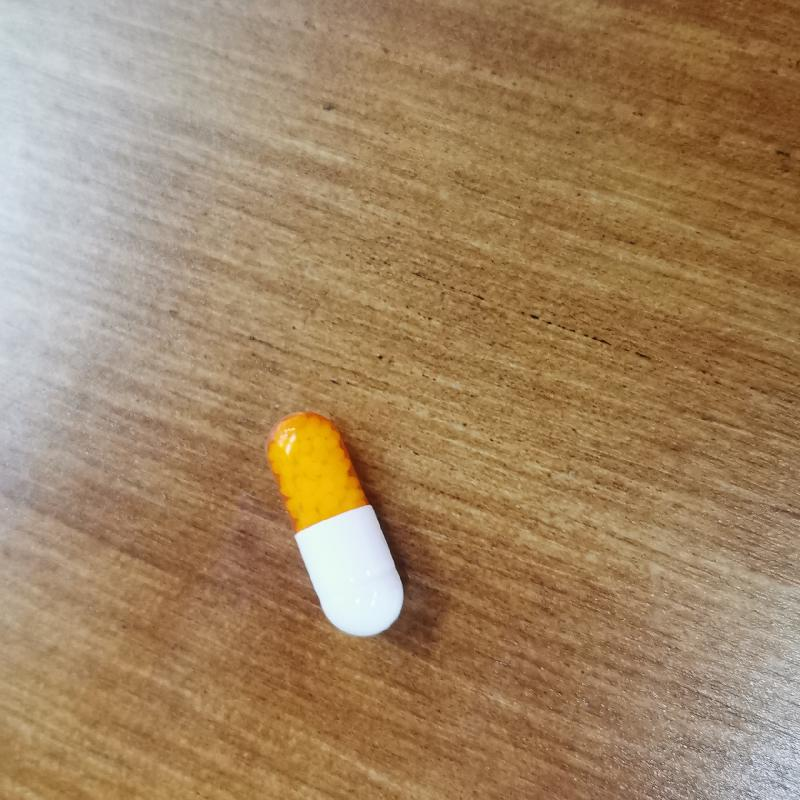pills: (248, 399, 442, 685)
